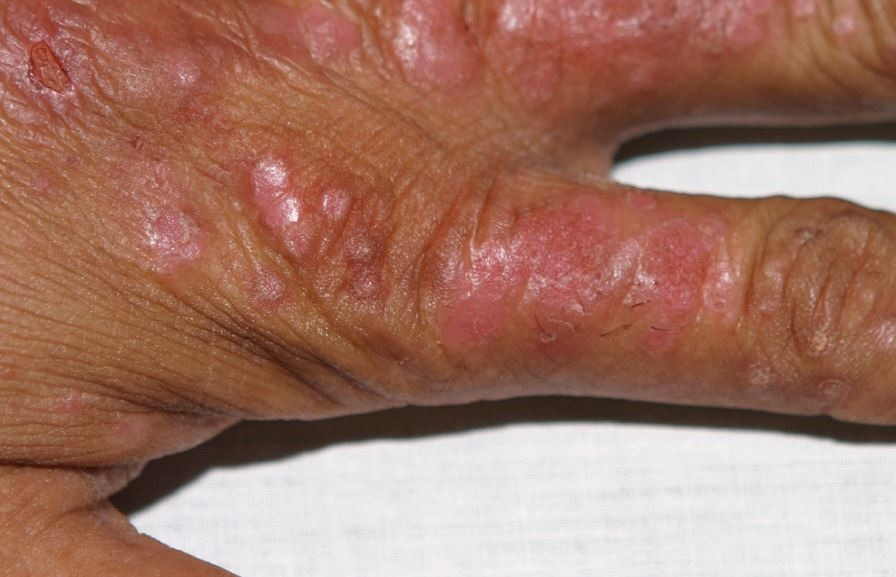Psoriasis: (409, 206, 737, 385), (238, 136, 352, 266), (105, 161, 222, 280), (387, 0, 488, 99)
